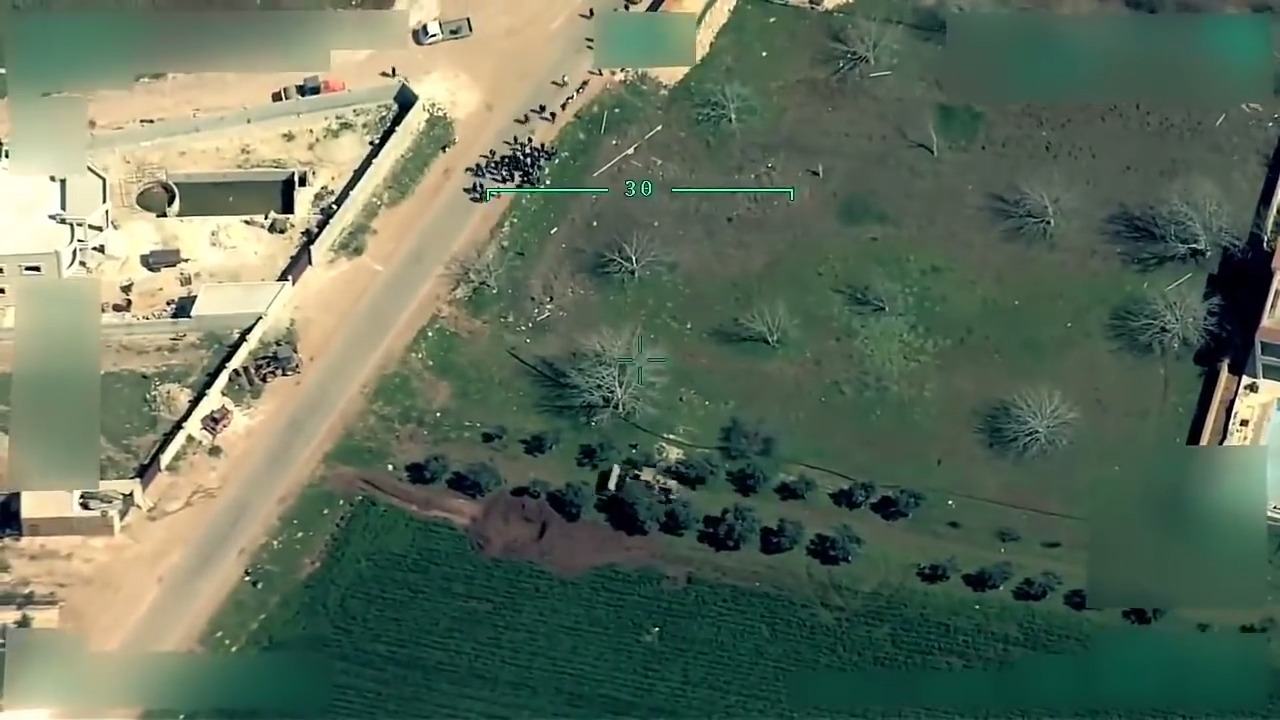arac: (268, 59, 350, 102), (407, 7, 479, 54), (254, 344, 307, 383)
insan: (556, 69, 579, 90), (545, 106, 562, 128), (519, 109, 535, 126), (485, 145, 496, 161)
